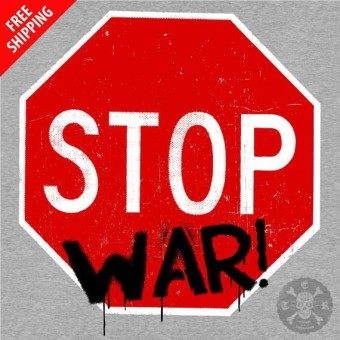SS: (22, 12, 315, 312)
